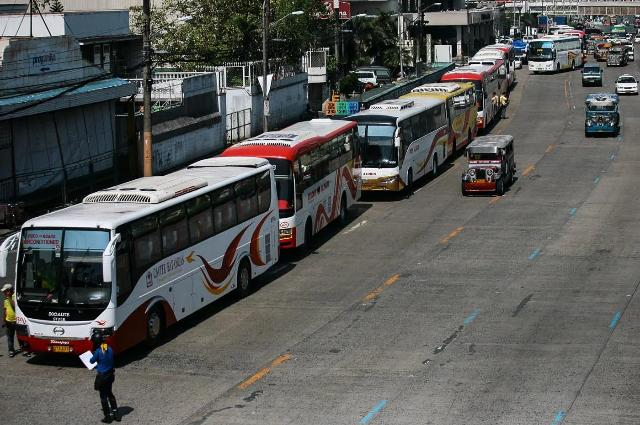bus: (3, 157, 280, 367), (219, 121, 351, 244), (352, 90, 459, 190), (442, 59, 506, 133), (527, 35, 582, 73)
car: (615, 73, 640, 95), (581, 63, 603, 86)
jeepney: (457, 135, 513, 194), (583, 92, 619, 137), (606, 47, 627, 67), (594, 44, 609, 62)
